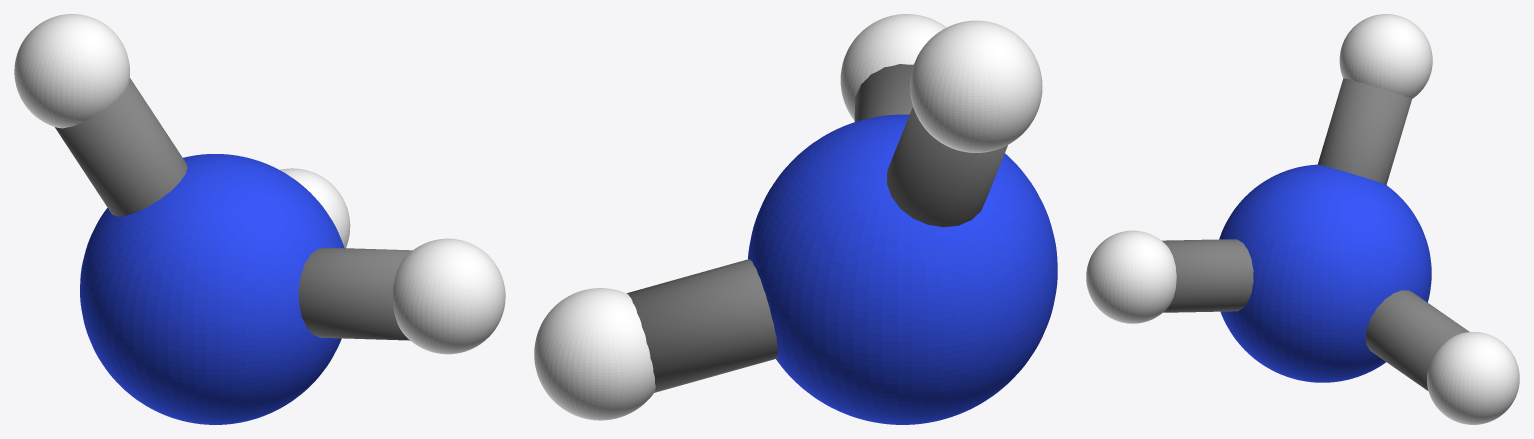
File: AMONIACO.obj
The picture shows the model from 3 angles, left to right: view 1: azimuth 30°, elevation 25°; view 2: azimuth 150°, elevation 25°; view 3: azimuth 270°, elevation 25°; orthographic projection. The views are drawn at different scales.
Visible parts, largest first — view 1: Nitrogen_ball_Esfera, Hydrogen_ball_Esfera.001, Stick_Cylinder_0000_Cilindro, Stick_Cylinder_0002_Cilindro.002; view 2: Nitrogen_ball_Esfera, Hydrogen_ball_Esfera.001, Stick_Cylinder_0001_Cilindro.001, Stick_Cylinder_0000_Cilindro, Stick_Cylinder_0002_Cilindro.002; view 3: Nitrogen_ball_Esfera, Hydrogen_ball_Esfera.001, Stick_Cylinder_0000_Cilindro, Stick_Cylinder_0002_Cilindro.002, Stick_Cylinder_0001_Cilindro.001.
Part boxes in pixels (box(x1,y1,x2,y2)): Nitrogen_ball_Esfera: box(80, 154, 344, 424); Hydrogen_ball_Esfera.001: box(14, 14, 505, 354); Stick_Cylinder_0000_Cilindro: box(55, 77, 187, 216); Stick_Cylinder_0002_Cilindro.002: box(298, 247, 412, 340); Nitrogen_ball_Esfera: box(748, 114, 1057, 424); Hydrogen_ball_Esfera.001: box(534, 14, 1042, 420); Stick_Cylinder_0001_Cilindro.001: box(627, 259, 778, 392); Stick_Cylinder_0000_Cilindro: box(887, 107, 1007, 227); Stick_Cylinder_0002_Cilindro.002: box(854, 64, 913, 121); Nitrogen_ball_Esfera: box(1219, 164, 1431, 382); Hydrogen_ball_Esfera.001: box(1086, 14, 1519, 424); Stick_Cylinder_0000_Cilindro: box(1317, 78, 1412, 184); Stick_Cylinder_0002_Cilindro.002: box(1162, 239, 1253, 312); Stick_Cylinder_0001_Cilindro.001: box(1365, 290, 1469, 390).
Size of the model in its own units: 1.91 by 1.9 by 2.38.
